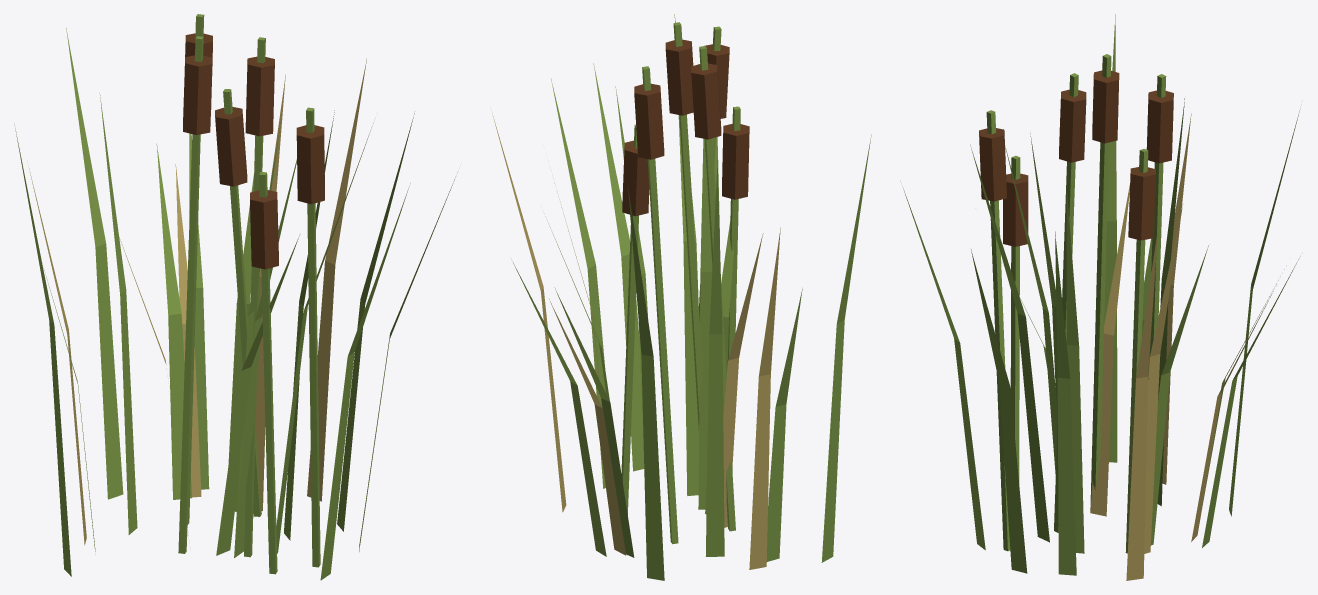
Rendered from reeds.glb.
The picture shows the model from 3 angles, left to right: view 1: azimuth 30°, elevation 25°; view 2: azimuth 150°, elevation 25°; view 3: azimuth 270°, elevation 25°; orthographic projection. The views are drawn at different scales.
Visible parts, largest first — view 1: reeds; view 2: reeds; view 3: reeds.
Boxes of the visible parts, x1,y1,x2,y2 form: reeds: (14, 14, 457, 580); reeds: (492, 14, 871, 580); reeds: (900, 14, 1300, 580).
Bounding box in the file's own units: 1.1 × 1.41 × 1.1.
